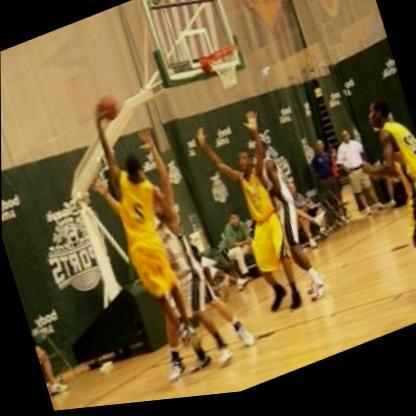basketball: (89, 85, 126, 127)
rim: (200, 42, 248, 99)
